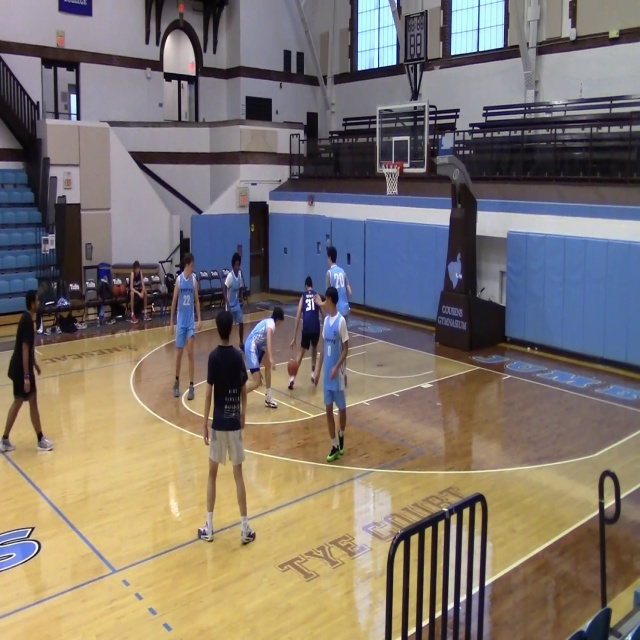Basketball: (111, 278, 126, 296), (111, 283, 126, 296), (287, 358, 298, 375)
